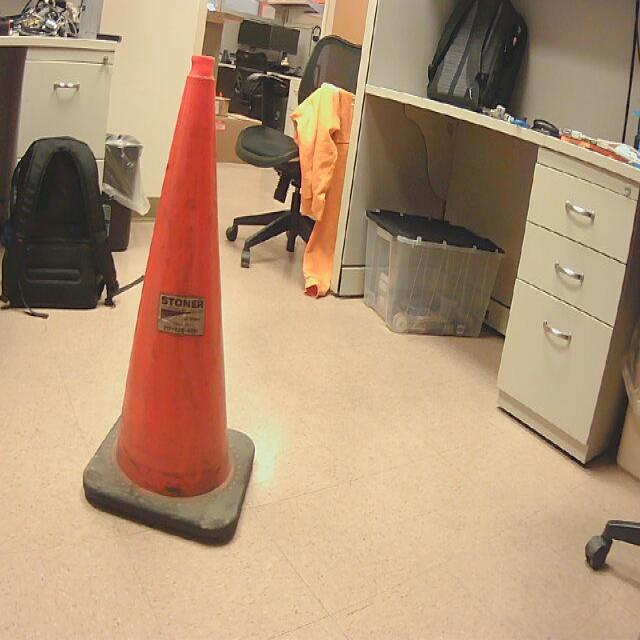traffic cone: (84, 54, 255, 550)
